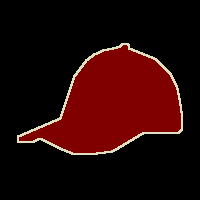hat: (18, 44, 182, 154)
